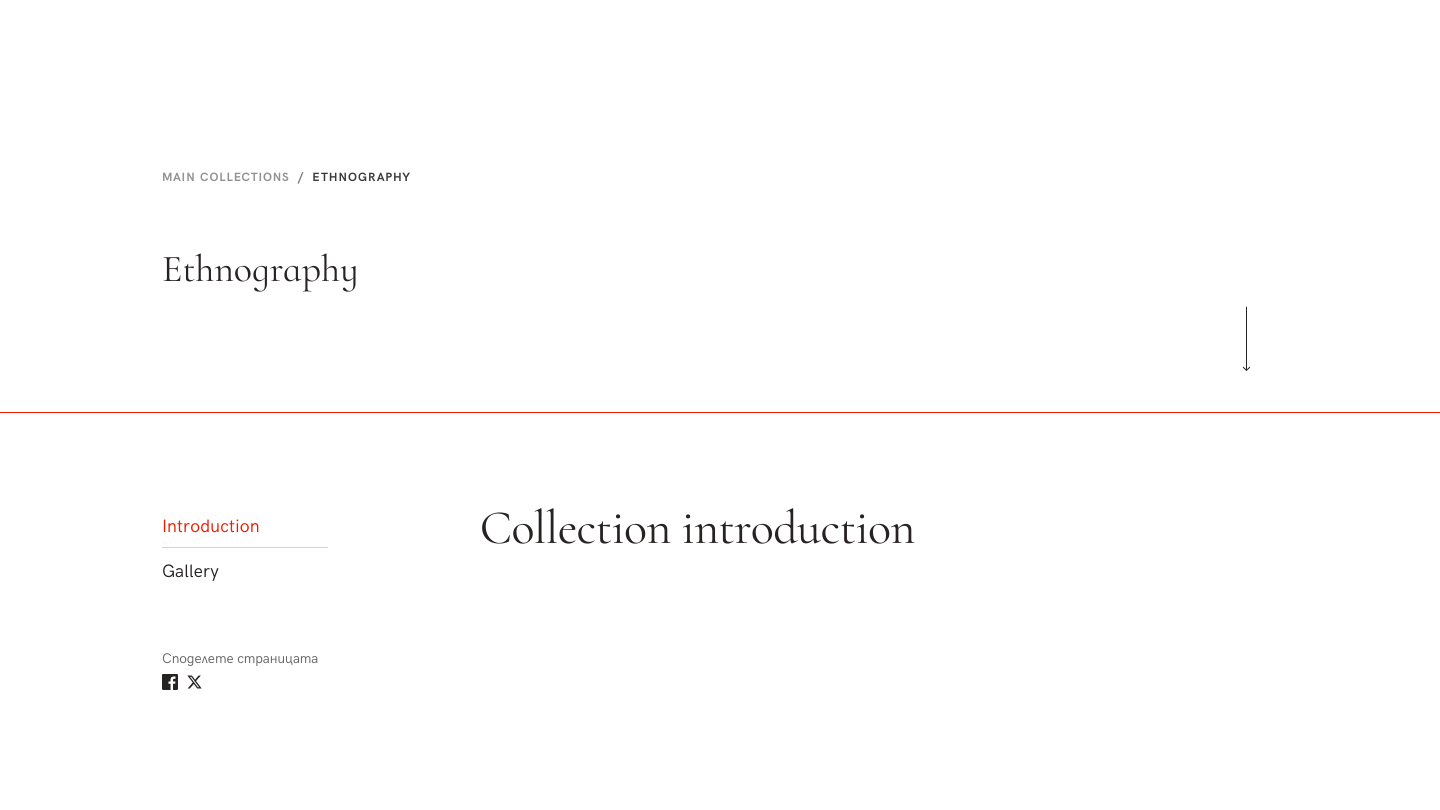
it: CollectionsIntroAndGallery › still shows items when the description request fails
(page scrolled)
Click the tab "Gallery" at (245, 570), box [162,547,328,592]
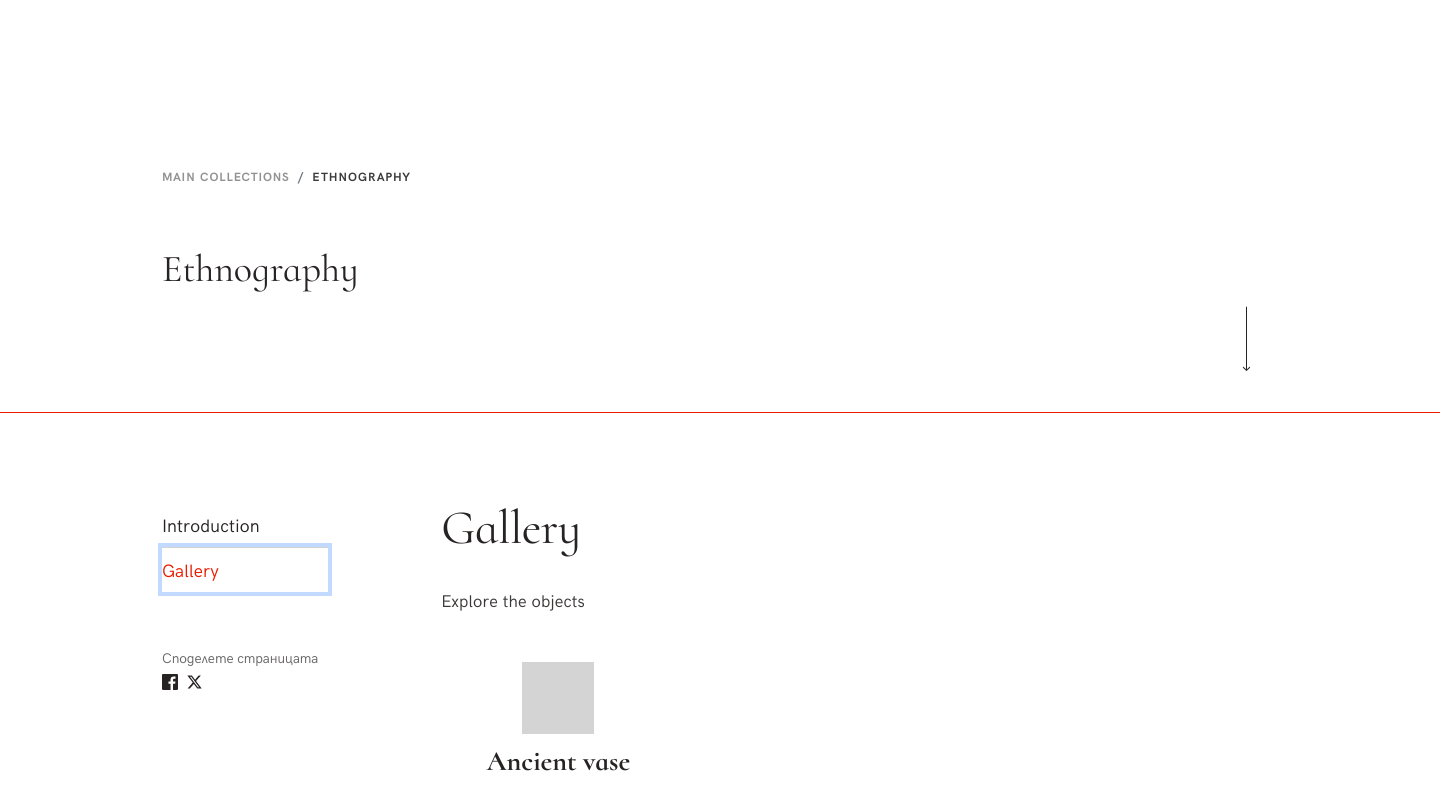
Expected: the link "Ancient vase" is shown, [487,662,630,776]
